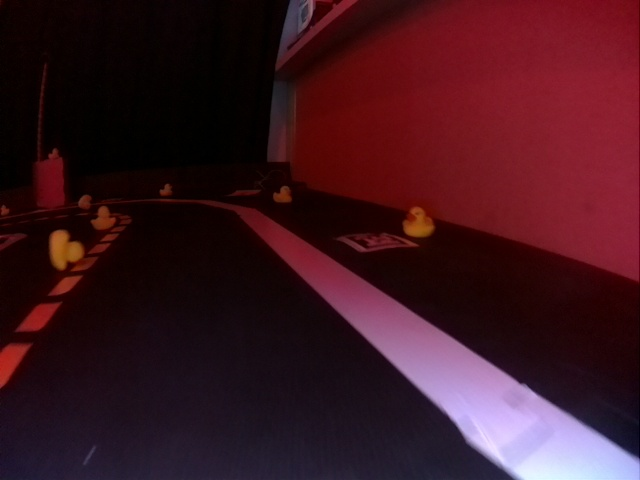Duckie: (49, 230, 83, 265), (403, 208, 434, 235), (91, 207, 116, 230), (273, 186, 291, 201), (79, 195, 91, 209), (159, 184, 168, 193)
QR code: (341, 233, 412, 249)
